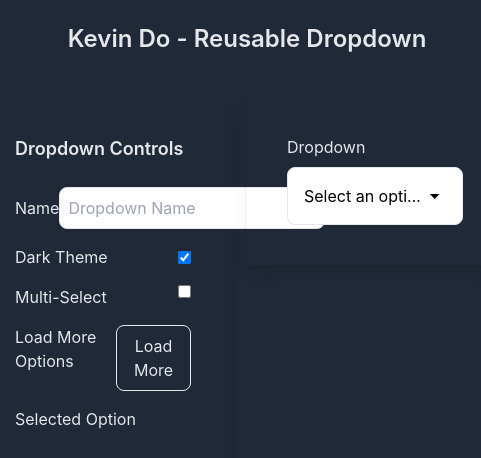
Test case: App › should allow the user to select multiple options in the dropdown
The image size is (481, 458).
Click the checkbox labelled "Multi-Select" at [184, 292], box [178,285,191,298]
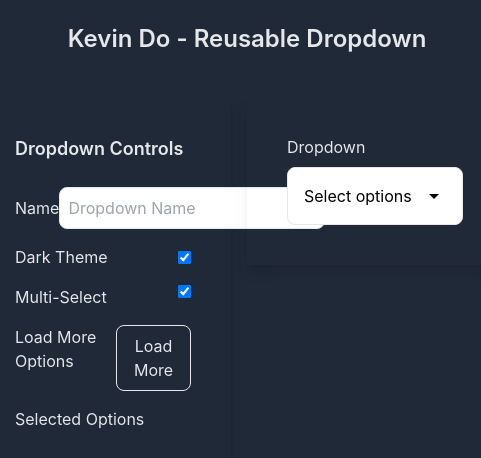
Click the button named "Dropdown" at [375, 196], box [287,167,463,225]
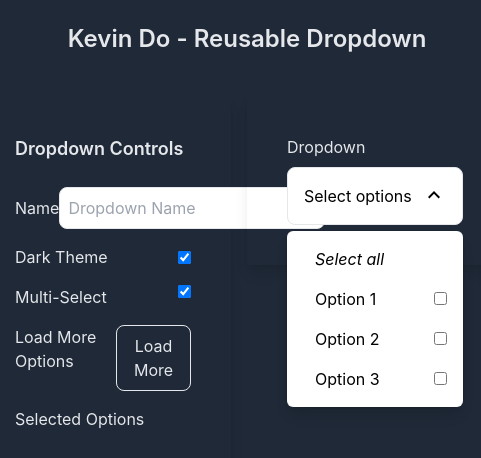
Click the option "Option 2" at [381, 339], box [315,329,447,349]
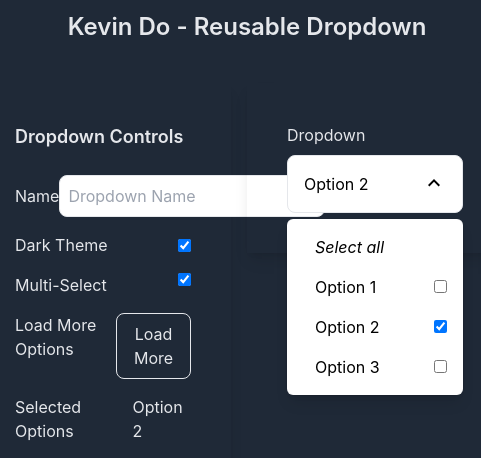
Click the option "Option 3" at [381, 367], box [315,357,447,377]
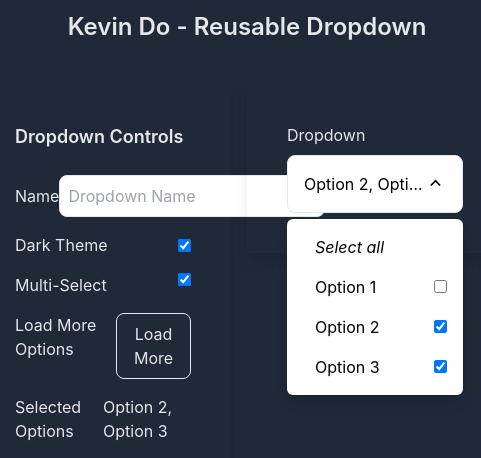
Result: the button named "Dropdown" reads "Option 2, Option 3" at [287,155,463,213]
